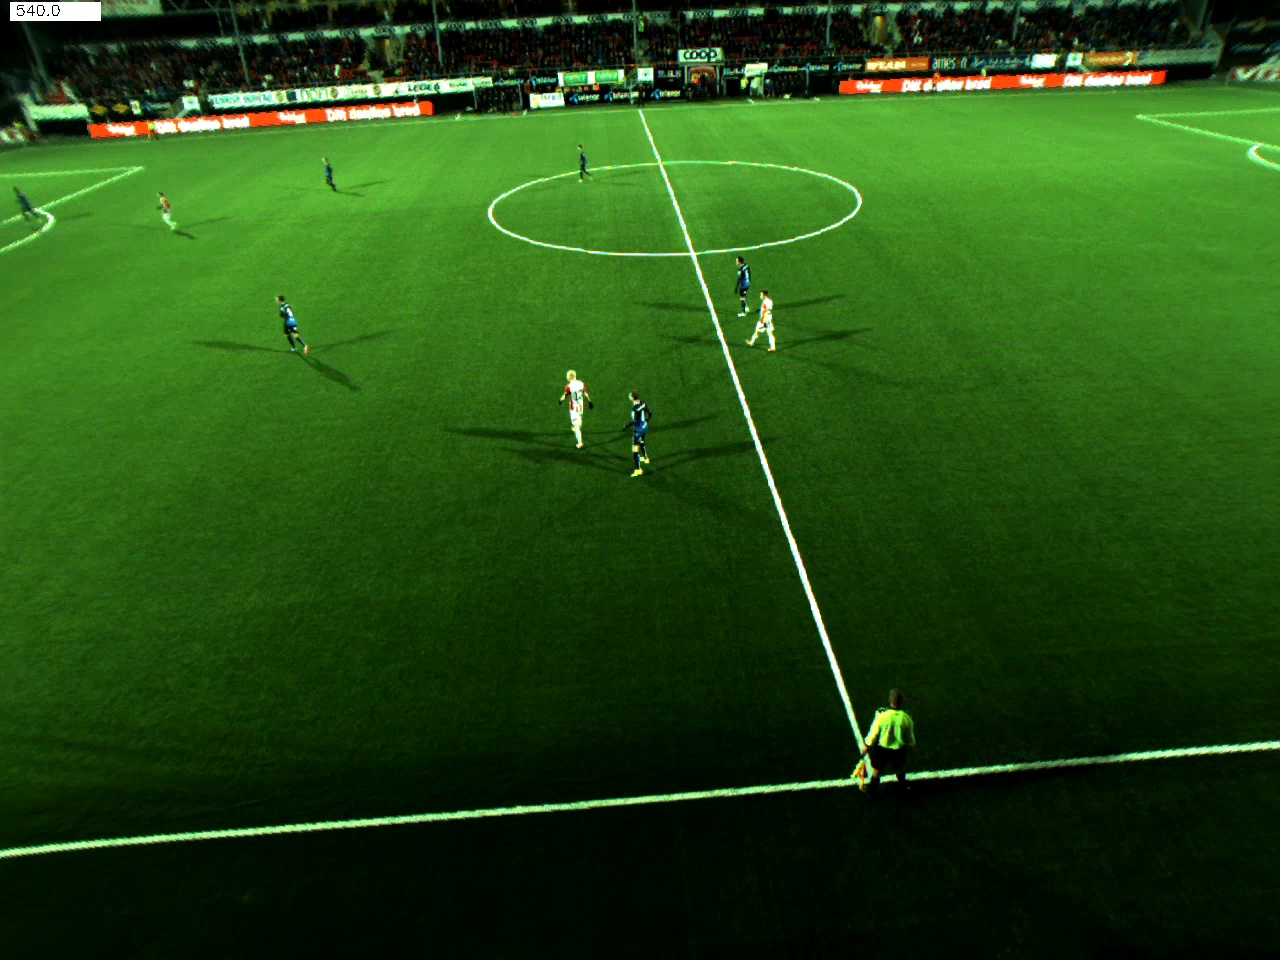blue: (619, 387, 663, 477), (269, 292, 317, 371), (8, 188, 45, 235), (731, 256, 759, 307), (566, 139, 596, 188), (310, 155, 342, 198)
red: (549, 360, 606, 450), (148, 184, 184, 234), (752, 291, 778, 357)
yellow: (859, 688, 921, 800)
